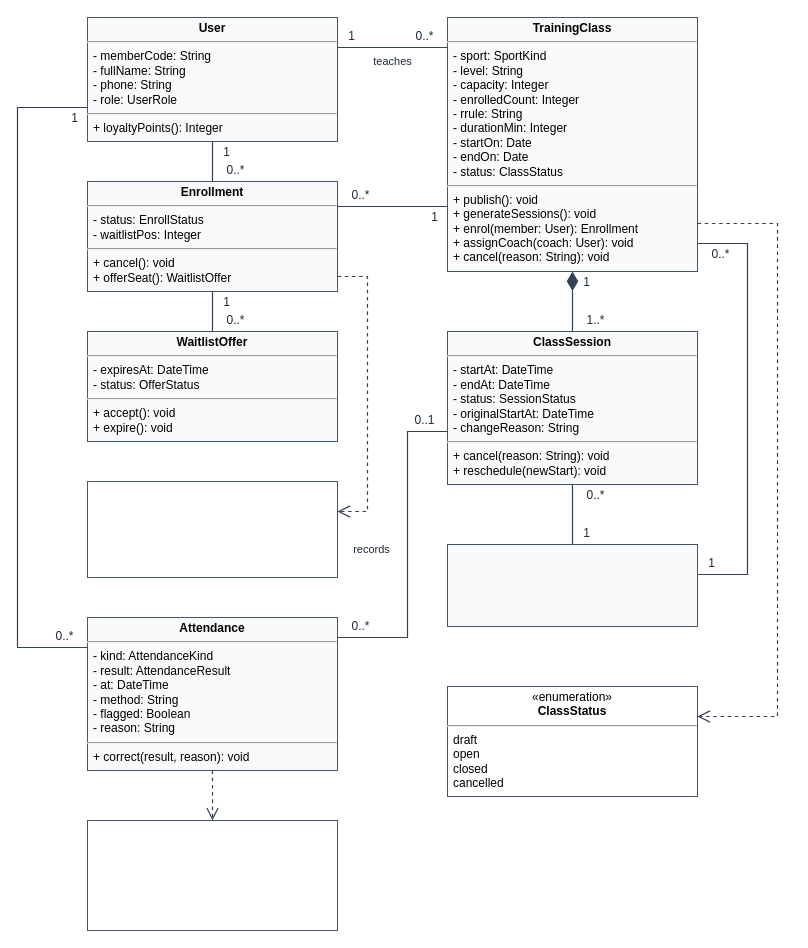
This 808x948 diagram has some shape labels left out. The shapes that lost their labels are listed below. From the top down, each one's centre as x and y in pixels, then its label:
At pixel 212 529: "«enumeration» EnrollStatus confirmed waitlisted cancelled".
At pixel 572 585: "Court - courtCode: String - sport: SportKind - status: CourtStatus".
At pixel 212 875: "«enumeration» AttendanceResult present late absent excused".
